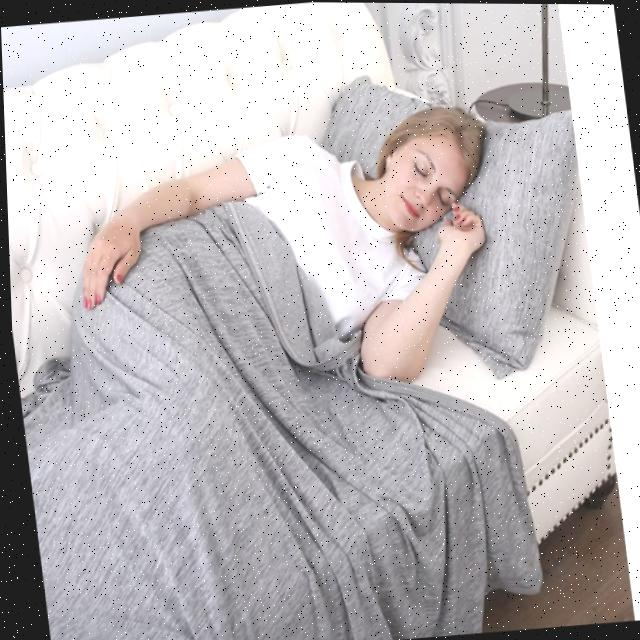sleeping-person: (5, 72, 558, 640)
